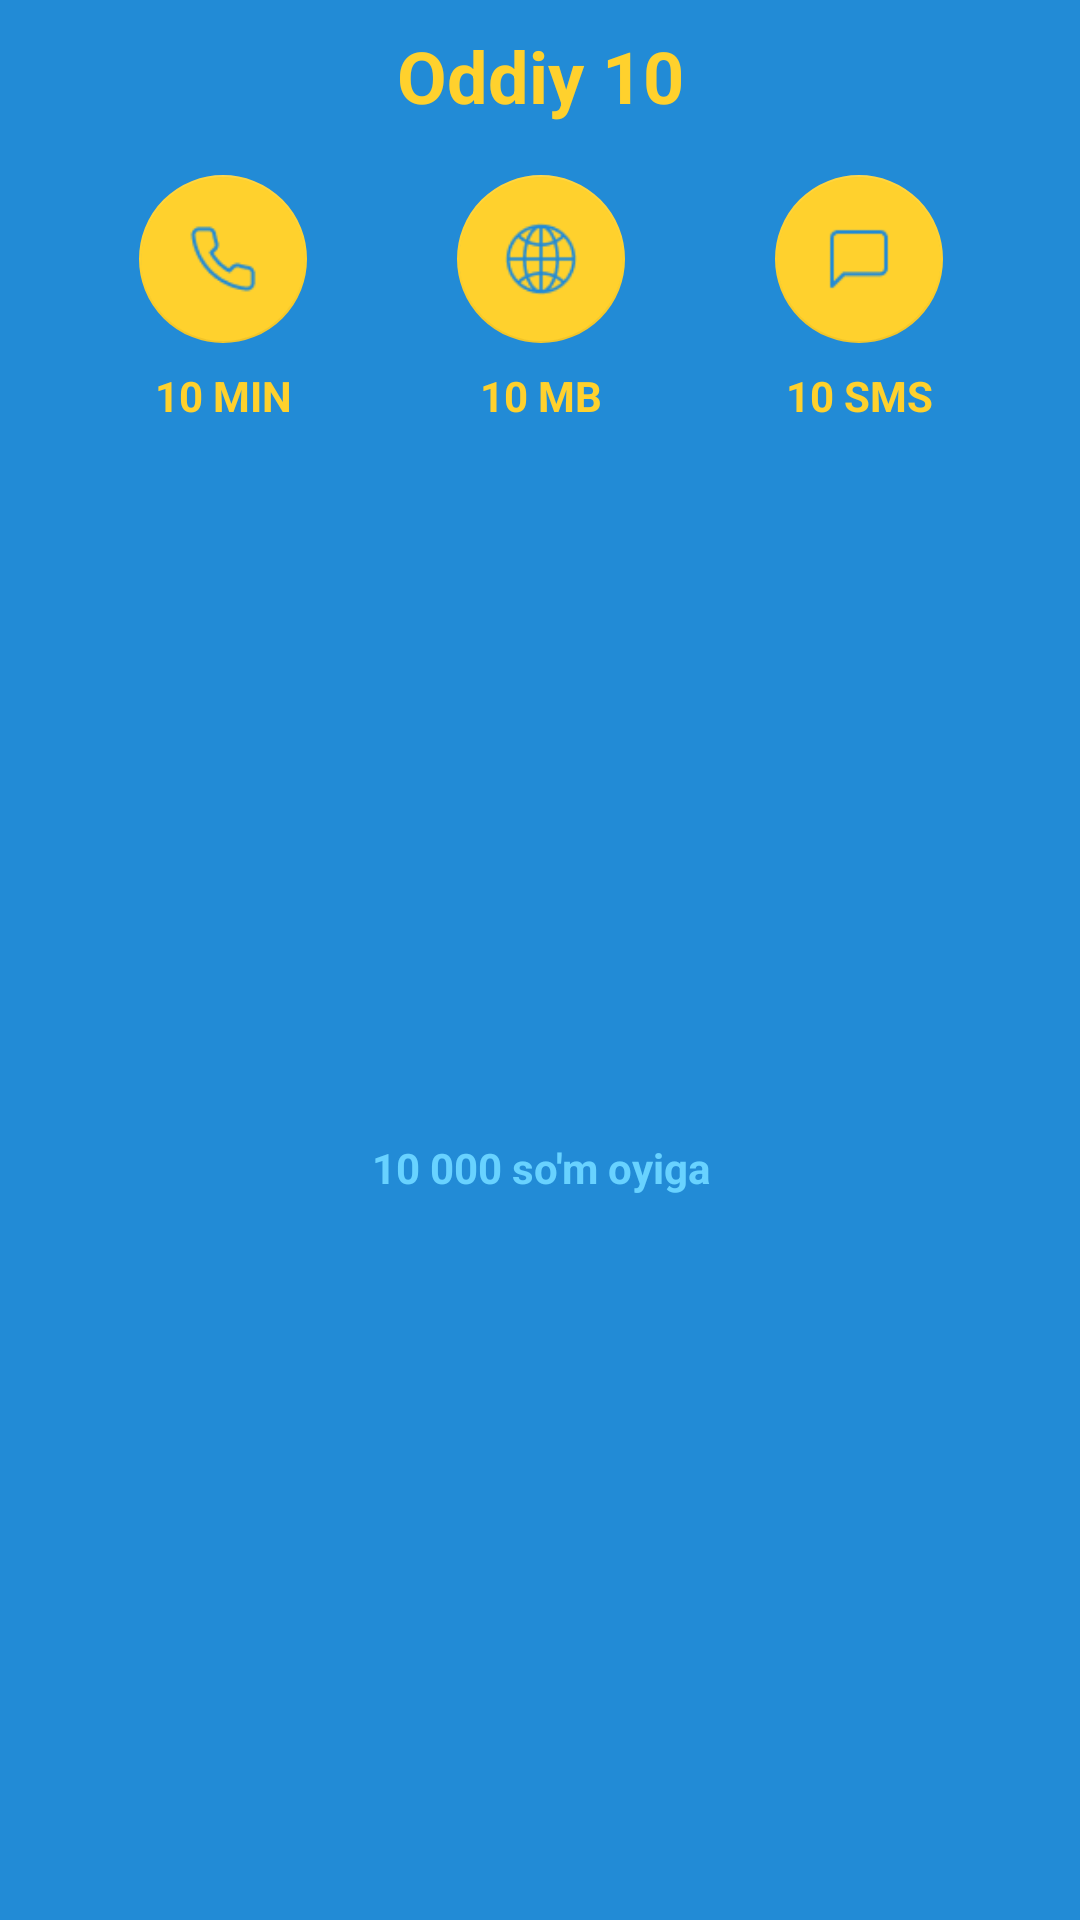

Named icons in this screenshot (1080 × 1920) and their bounding boxes, (x1, y1, x2, y2):
internet: (457, 175, 625, 343)
phone: (139, 175, 307, 343)
